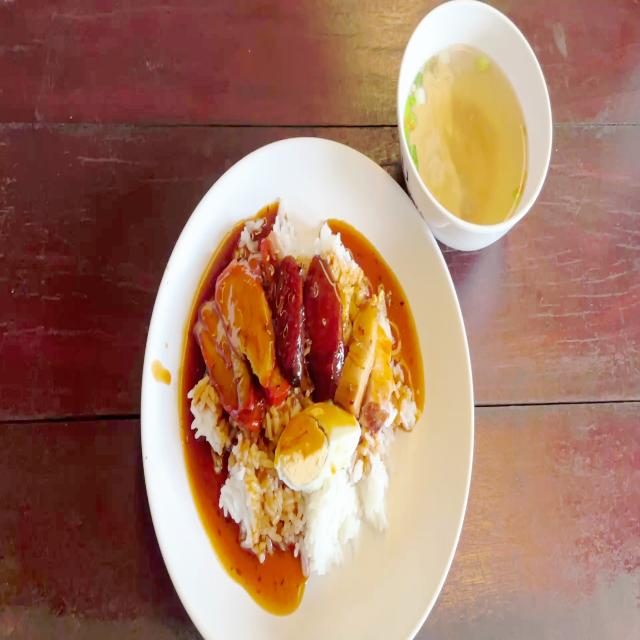boiled_egg: (272, 401, 367, 492)
chainese_sausage: (276, 256, 339, 386)
crispy_pork: (347, 292, 390, 425)
red_pork: (201, 264, 271, 421)
red_pork_and_crispy_pork: (192, 207, 420, 574)
